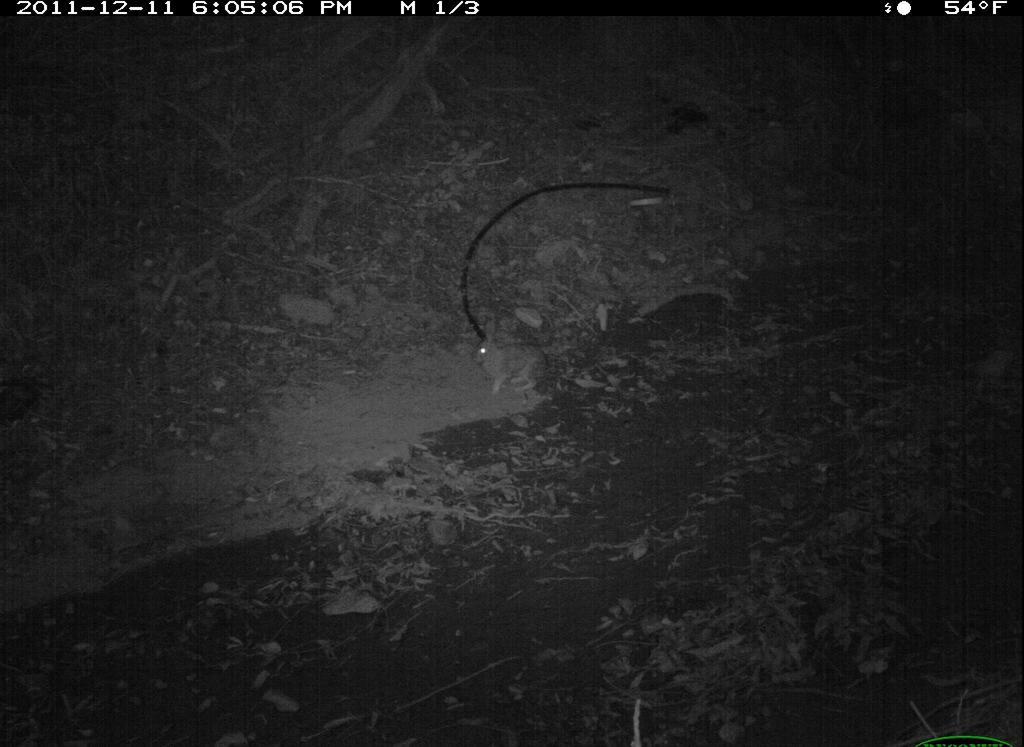rabbit: (468, 311, 550, 402)
